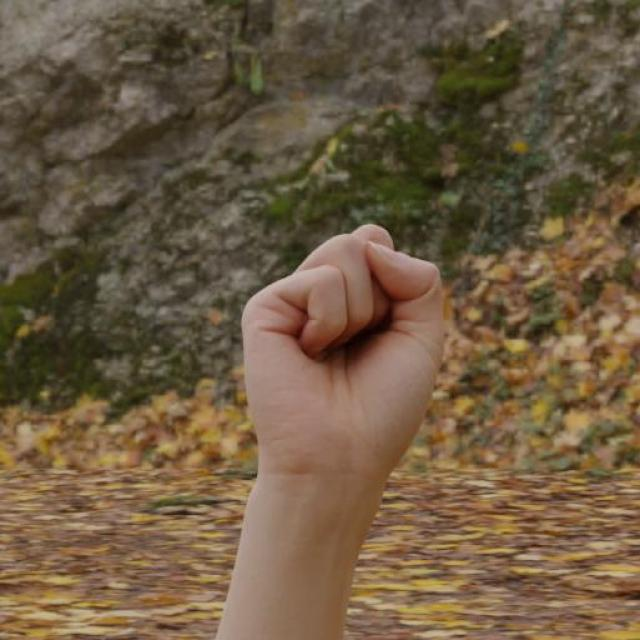S: (238, 222, 447, 487)
